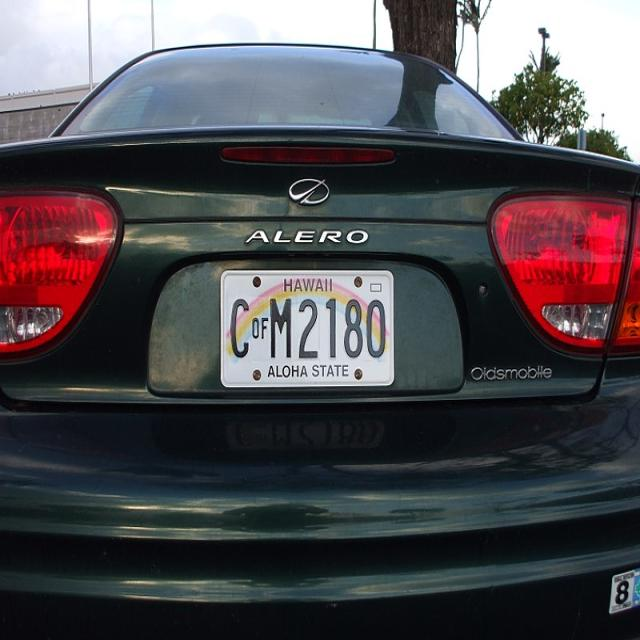placa: (225, 291, 395, 358)
